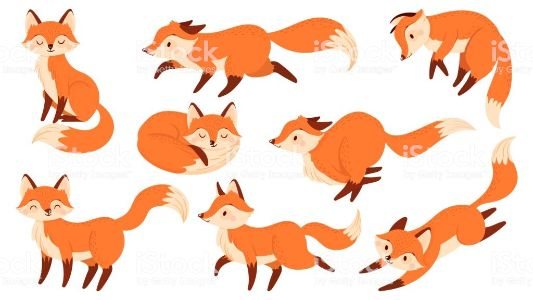fox: (10, 168, 194, 290), (195, 179, 365, 296), (263, 110, 478, 201), (139, 13, 365, 98), (387, 9, 522, 126), (19, 3, 118, 157), (365, 191, 512, 290), (136, 101, 242, 174)
